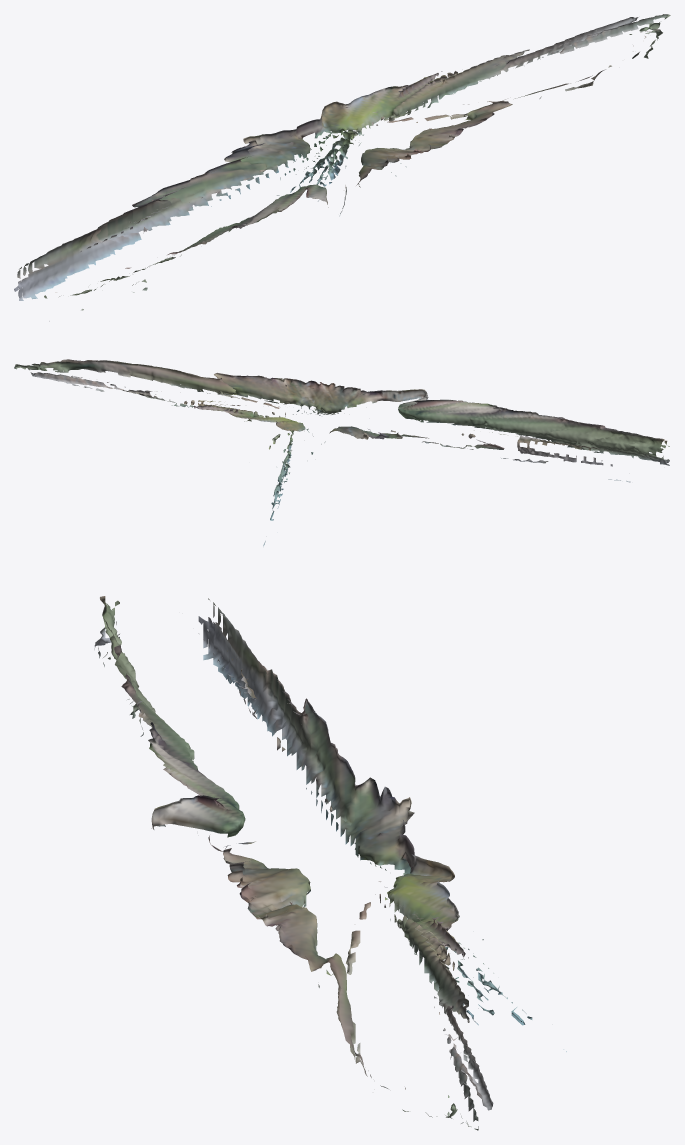
File: scene-orlando-v2-collider.glb
The picture shows the model from 3 angles, top to bottom: view 1: azimuth 30°, elevation 25°; view 2: azimuth 150°, elevation 25°; view 3: azimuth 270°, elevation 25°; orthographic projection. The views are drawn at different scales.
Parts seen in each view (by area): view 1: world; view 2: world; view 3: world.
Boxes of the visible parts, x1,y1,x2,y2 form: world: (14,14,670,321); world: (14,359,669,546); world: (94,596,566,1130).
Size of the model in its own units: 72.07 by 13.59 by 27.49.
